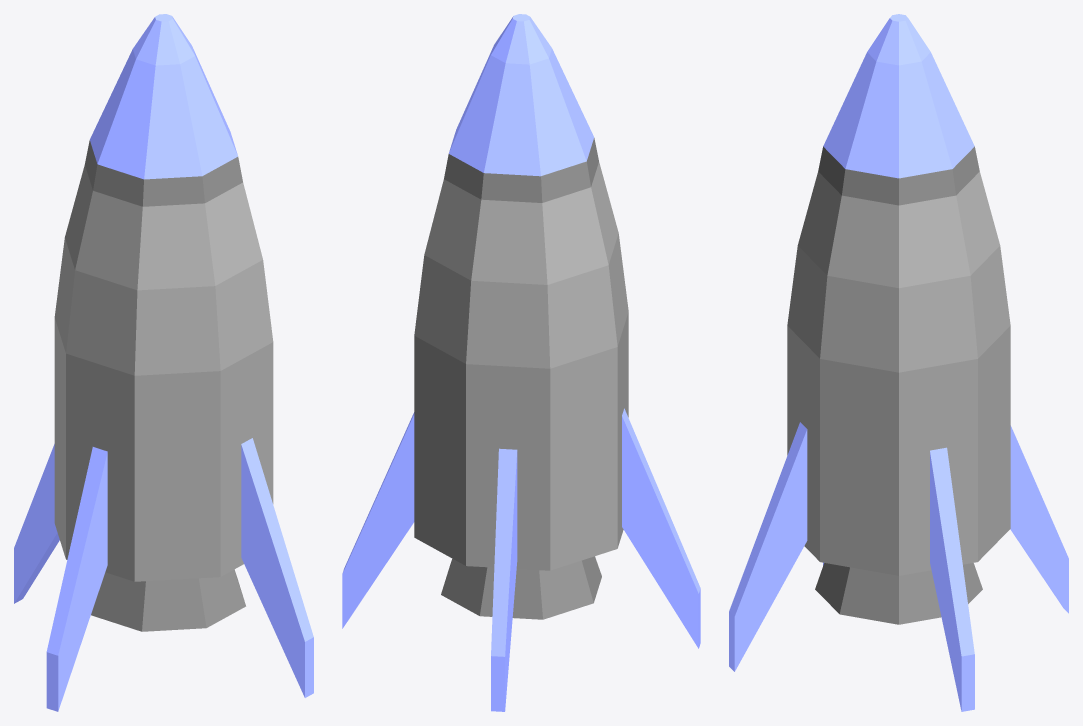
File: SM_Rocket.fbx
3 views of the same model, side by side, from view 1: azimuth 30°, elevation 25°; view 2: azimuth 150°, elevation 25°; view 3: azimuth 270°, elevation 25° (orthographic).
Visible parts, largest first — view 1: SM_Rocket; view 2: SM_Rocket; view 3: SM_Rocket.
Boxes of the visible parts, bbox=[...] form: SM_Rocket: bbox=[14, 14, 313, 711]; SM_Rocket: bbox=[342, 14, 700, 711]; SM_Rocket: bbox=[729, 14, 1068, 711].
Bounding box in the file's own units: 0.3543 × 0.7162 × 0.3543.
